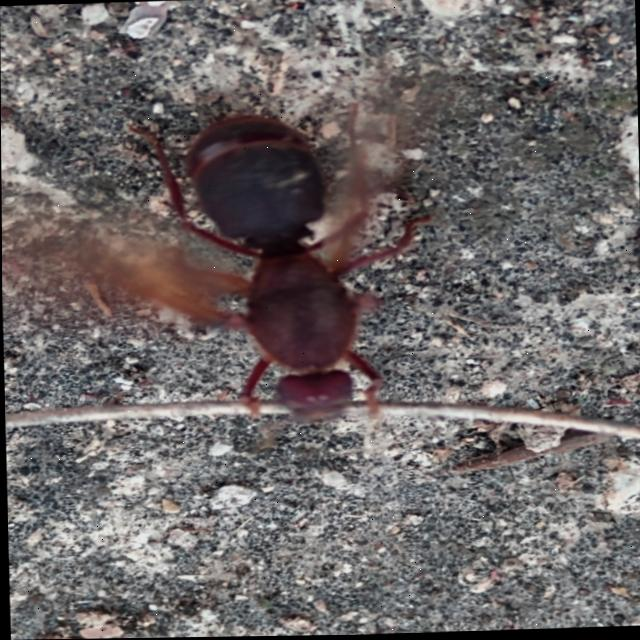Alive-Female-Alate: (0, 63, 440, 456)
